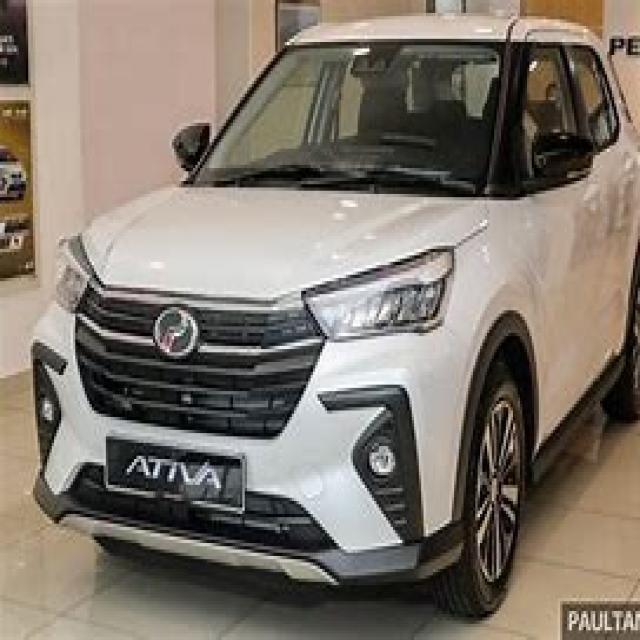PeroduaAtiva: (28, 9, 638, 620)
